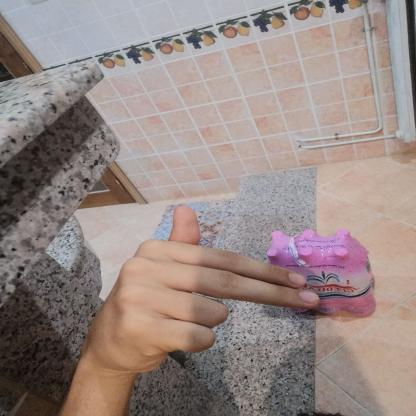GHAYN: (70, 194, 332, 381)
